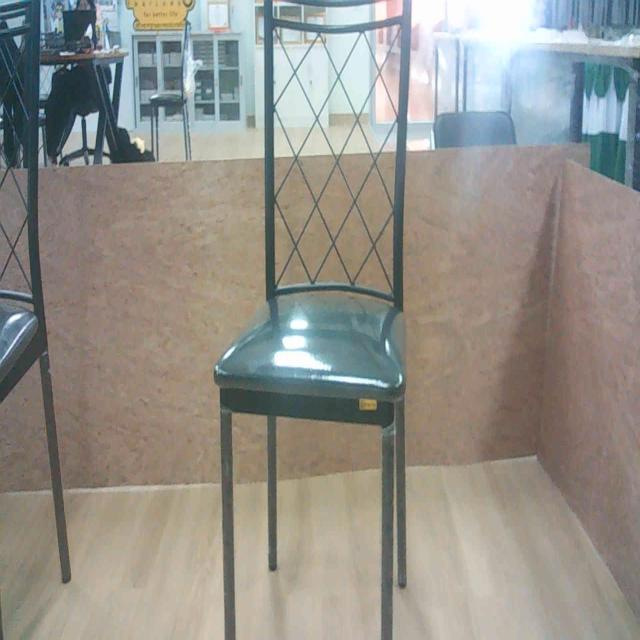emtpy: (227, 0, 414, 640)
